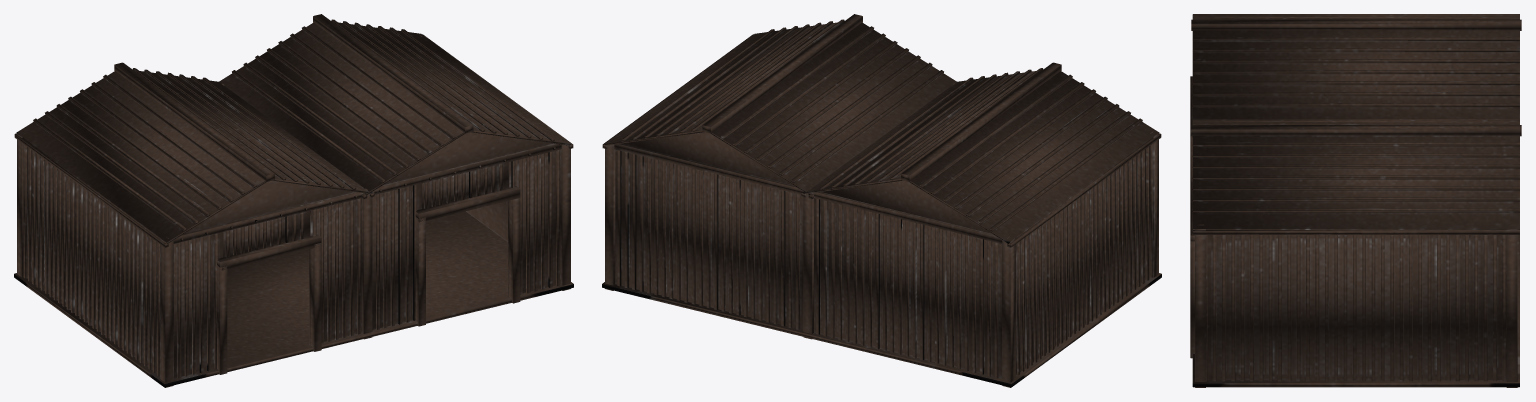
File: Albatros_Galpon.fbx
The picture shows the model from 3 angles, left to right: view 1: azimuth 30°, elevation 25°; view 2: azimuth 150°, elevation 25°; view 3: azimuth 270°, elevation 25°; orthographic projection. The views are drawn at different scales.
Parts seen in each view (by area): view 1: Albatros_Galpon; view 2: Albatros_Galpon; view 3: Albatros_Galpon.
Part boxes in pixels (x1,y1,x2,y2): Albatros_Galpon: (14,14,573,387); Albatros_Galpon: (602,14,1161,387); Albatros_Galpon: (1190,14,1521,387).
Bounding box in the file's own units: 66 × 29.17 × 42.5.
